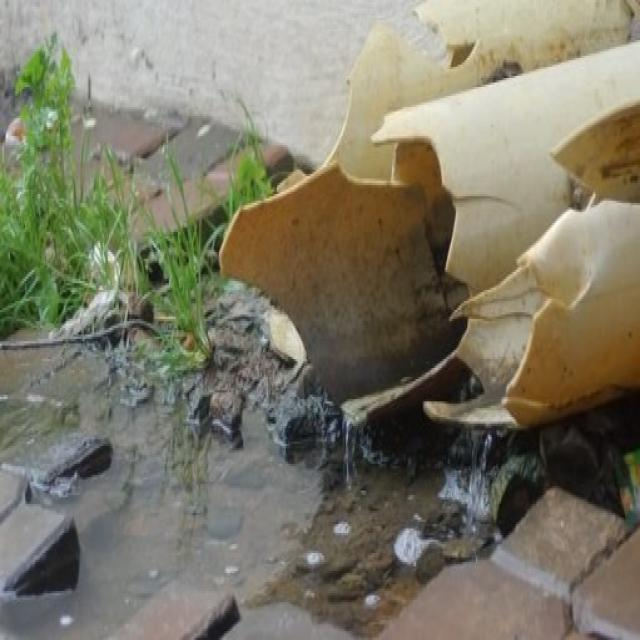water_leak: (59, 368, 488, 634)
